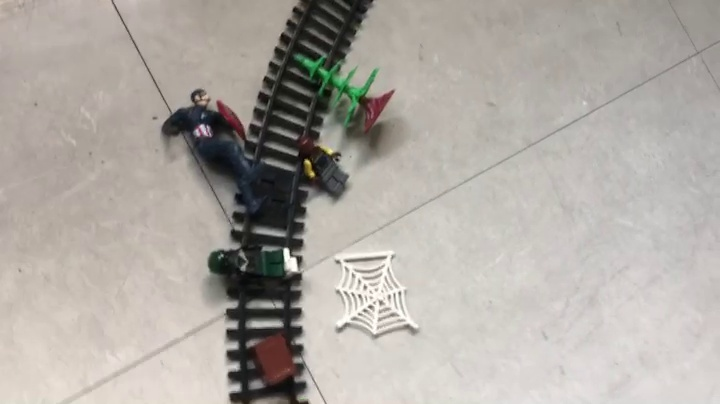box: (248, 334, 299, 391)
people: (162, 87, 277, 220), (208, 243, 302, 289), (296, 134, 350, 199)
tree: (292, 53, 397, 134)
web: (332, 250, 419, 337)
